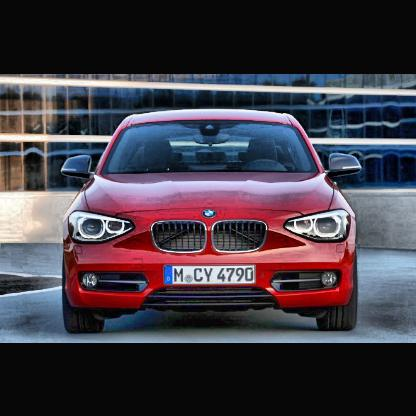BMW 1 Series Coupe 2012: (61, 106, 364, 332)
